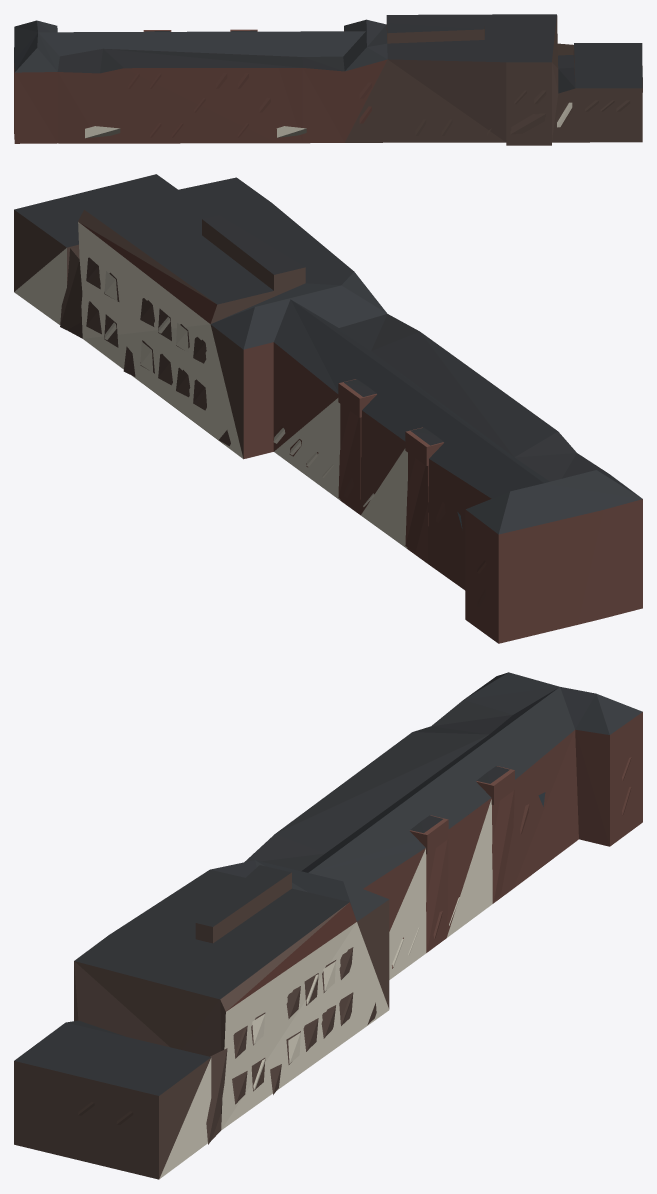
The model's file is kweekschool-machinisten.lod2.glb.
3 renders of one model, top to bottom at view 1: azimuth 30°, elevation 25°; view 2: azimuth 150°, elevation 25°; view 3: azimuth 270°, elevation 25°, orthographic. The views are drawn at different scales.
Parts seen in each view (by area): view 1: lod2; view 2: lod2; view 3: lod2.
Boxes of the visible parts, box(x1,y1,x2,y2) form: lod2: box(14, 14, 642, 145); lod2: box(14, 174, 642, 643); lod2: box(14, 672, 642, 1179).
Size of the model in its own units: 105 by 18.2 by 70.77.
